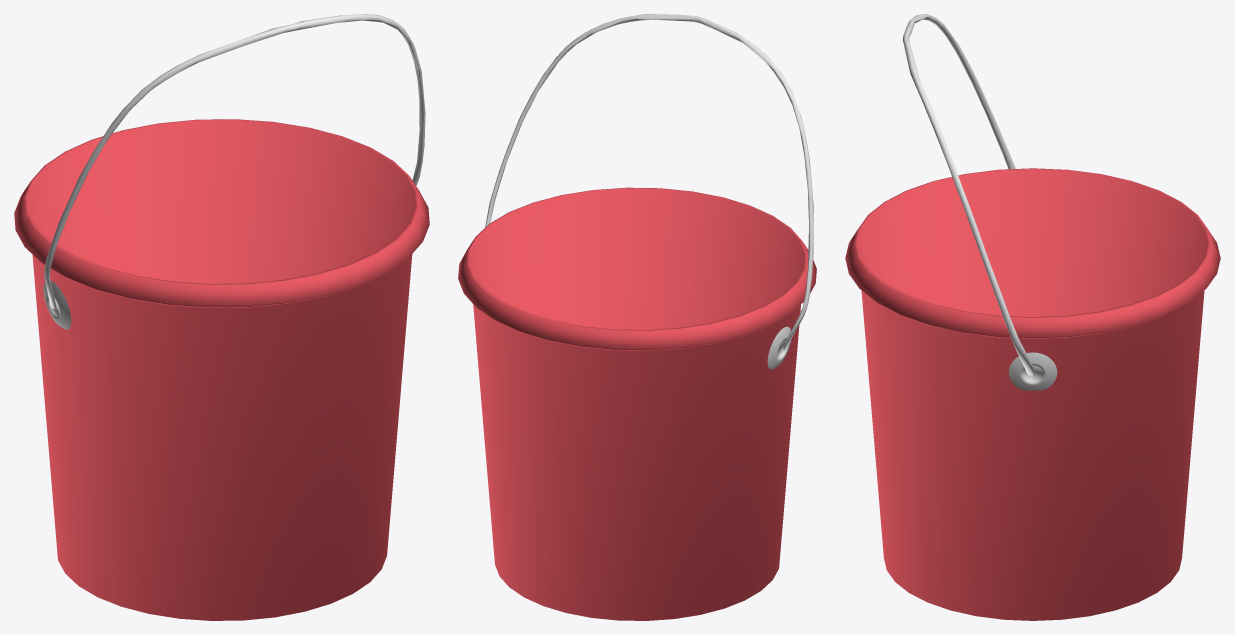
File: Bucket.fbx
3 views of the same model, side by side, from view 1: azimuth 30°, elevation 25°; view 2: azimuth 150°, elevation 25°; view 3: azimuth 270°, elevation 25° (orthographic). The views are drawn at different scales.
Parts seen in each view (by area): view 1: Circle, Cube.001; view 2: Circle, Cube.001; view 3: Circle, Cube.001.
Part boxes in pixels (left/top/right/bottom): Circle: left=14, top=119, right=429, bottom=620; Cube.001: left=44, top=14, right=425, bottom=308; Circle: left=458, top=187, right=816, bottom=620; Cube.001: left=485, top=14, right=813, bottom=350; Circle: left=845, top=168, right=1220, bottom=620; Cube.001: left=902, top=14, right=1035, bottom=375.
Size of the model in its own units: 49.8 by 73.72 by 48.13.
